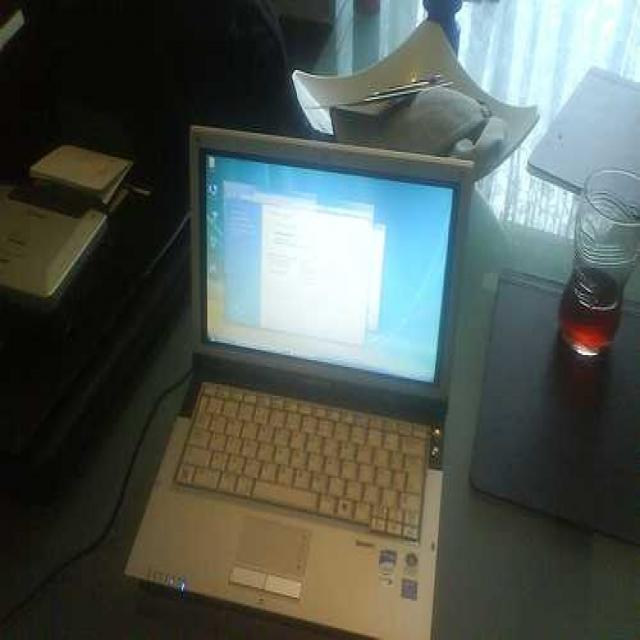laptop: (168, 136, 433, 594)
